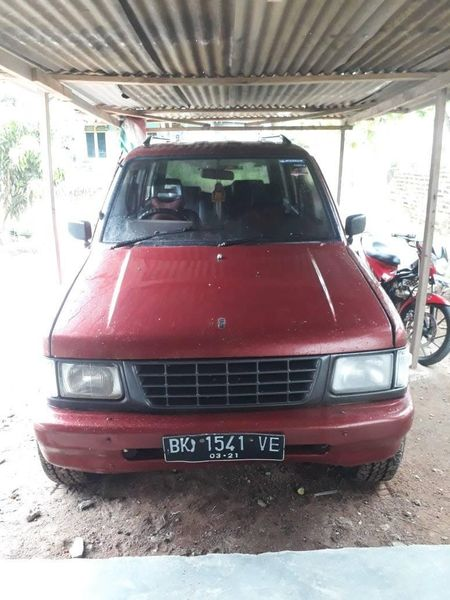plate: (160, 430, 294, 465)
